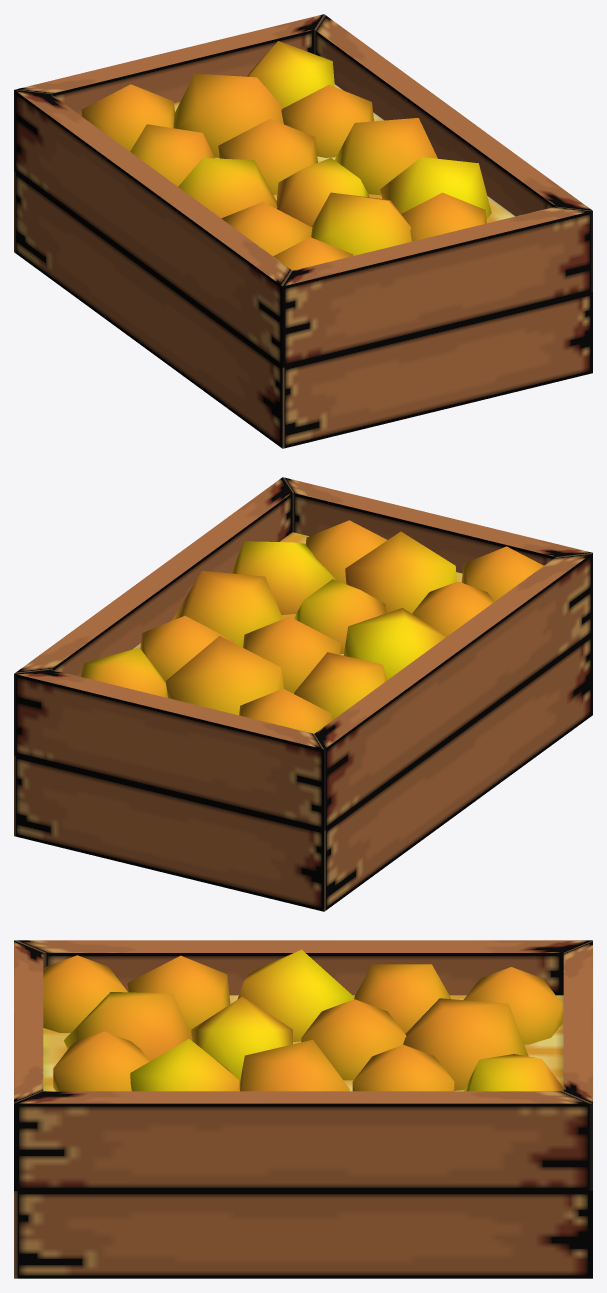
The model's file is deco_crate_fruitOrange.FBX.
3 views of the same model, one above another, from view 1: azimuth 30°, elevation 25°; view 2: azimuth 150°, elevation 25°; view 3: azimuth 270°, elevation 25° (orthographic). The views are drawn at different scales.
Visible parts, largest first — view 1: deco_crate_fruitOrange; view 2: deco_crate_fruitOrange; view 3: deco_crate_fruitOrange.
Part boxes in pixels (<box>): deco_crate_fruitOrange: <box>14,14,592,448</box>; deco_crate_fruitOrange: <box>14,477,592,911</box>; deco_crate_fruitOrange: <box>14,940,592,1278</box>.
Size of the model in its own units: 1 by 0.5636 by 1.5.
Materials: 1 (1 with a texture image).
